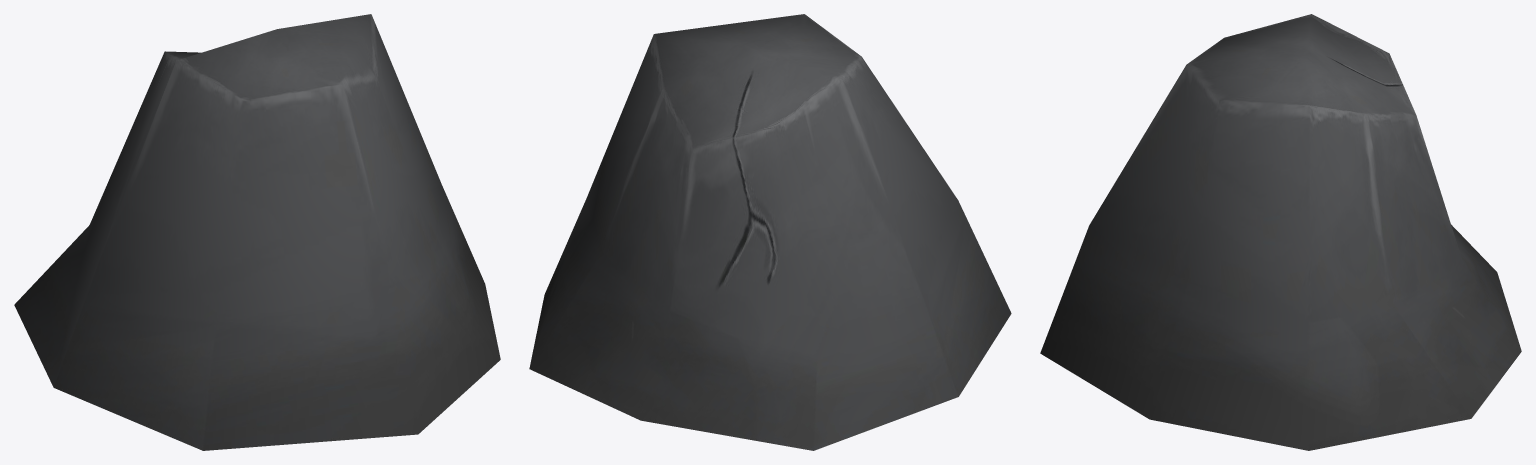
Rendered from Rock2.fbx.
3 views of the same model, side by side, from view 1: azimuth 30°, elevation 25°; view 2: azimuth 150°, elevation 25°; view 3: azimuth 270°, elevation 25° (orthographic). The views are drawn at different scales.
Visible parts, largest first — view 1: Cube; view 2: Cube; view 3: Cube.
Boxes of the visible parts, x1,y1,x2,y2 form: Cube: (14,14,500,450); Cube: (529,14,1011,450); Cube: (1040,14,1521,450).
Size of the model in its own units: 123 by 83.55 by 122.
1 material, 1 textured.
